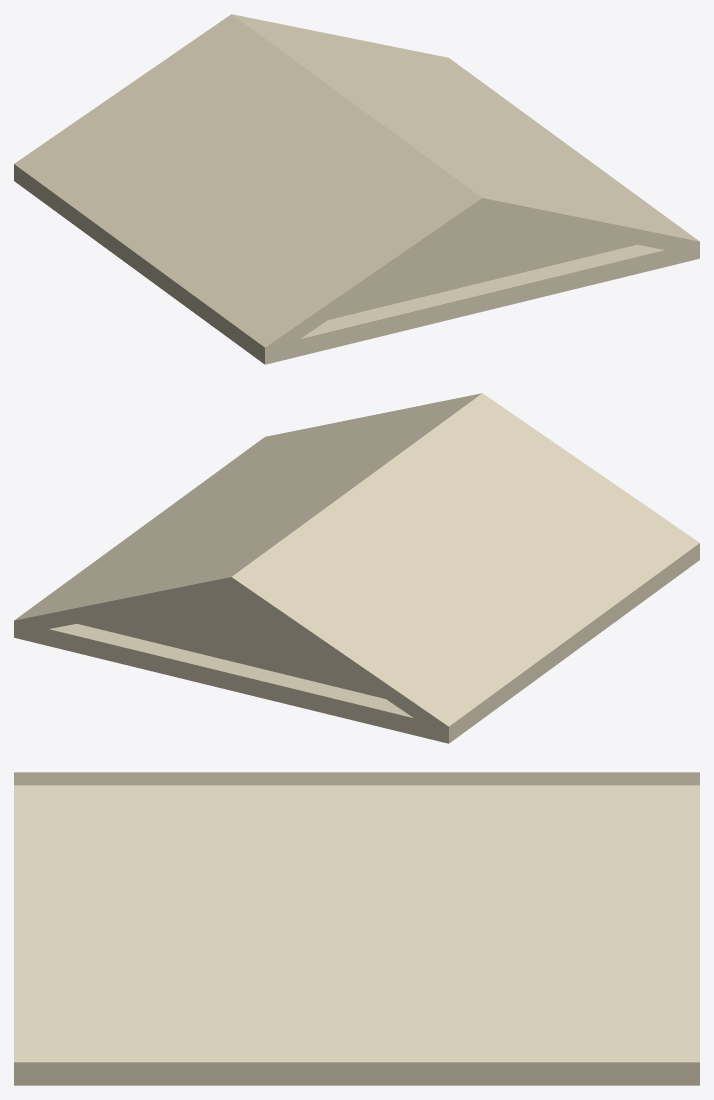
Rendered from roman_roof_stone_square.fbx.
The picture shows the model from 3 angles, top to bottom: view 1: azimuth 30°, elevation 25°; view 2: azimuth 150°, elevation 25°; view 3: azimuth 270°, elevation 25°; orthographic projection. The views are drawn at different scales.
Parts seen in each view (by area): view 1: Cube.016; view 2: Cube.016; view 3: Cube.016.
Part boxes in pixels (<box>): Cube.016: <box>14,14,699,364</box>; Cube.016: <box>14,393,699,743</box>; Cube.016: <box>14,772,699,1085</box>.
Size of the model in its own units: 8 by 2 by 8.
